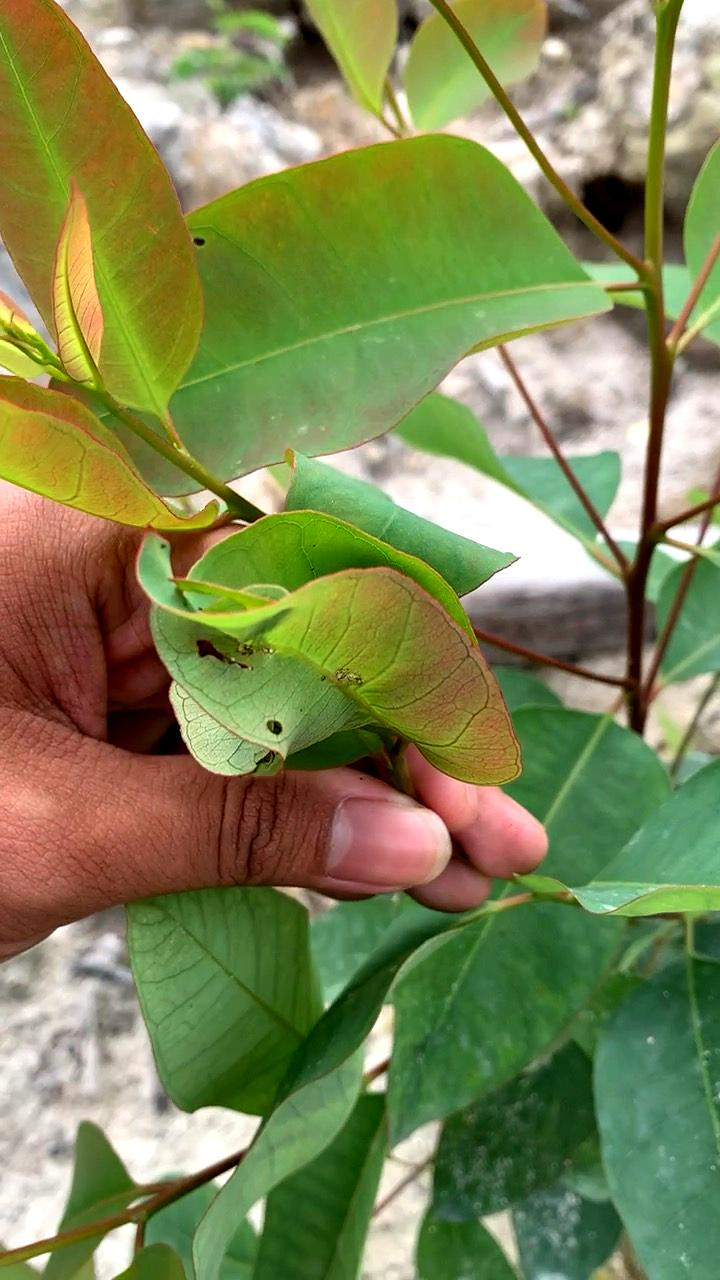Leaf Roller - Leaf: (113, 493, 543, 824)
